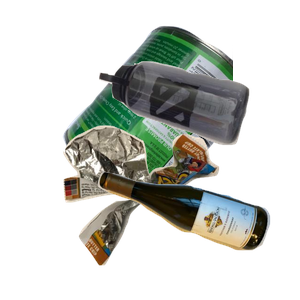glass: (95, 168, 300, 300)
metal: (60, 23, 300, 203)
plastic: (97, 59, 300, 197)
trash: (61, 123, 273, 300)
